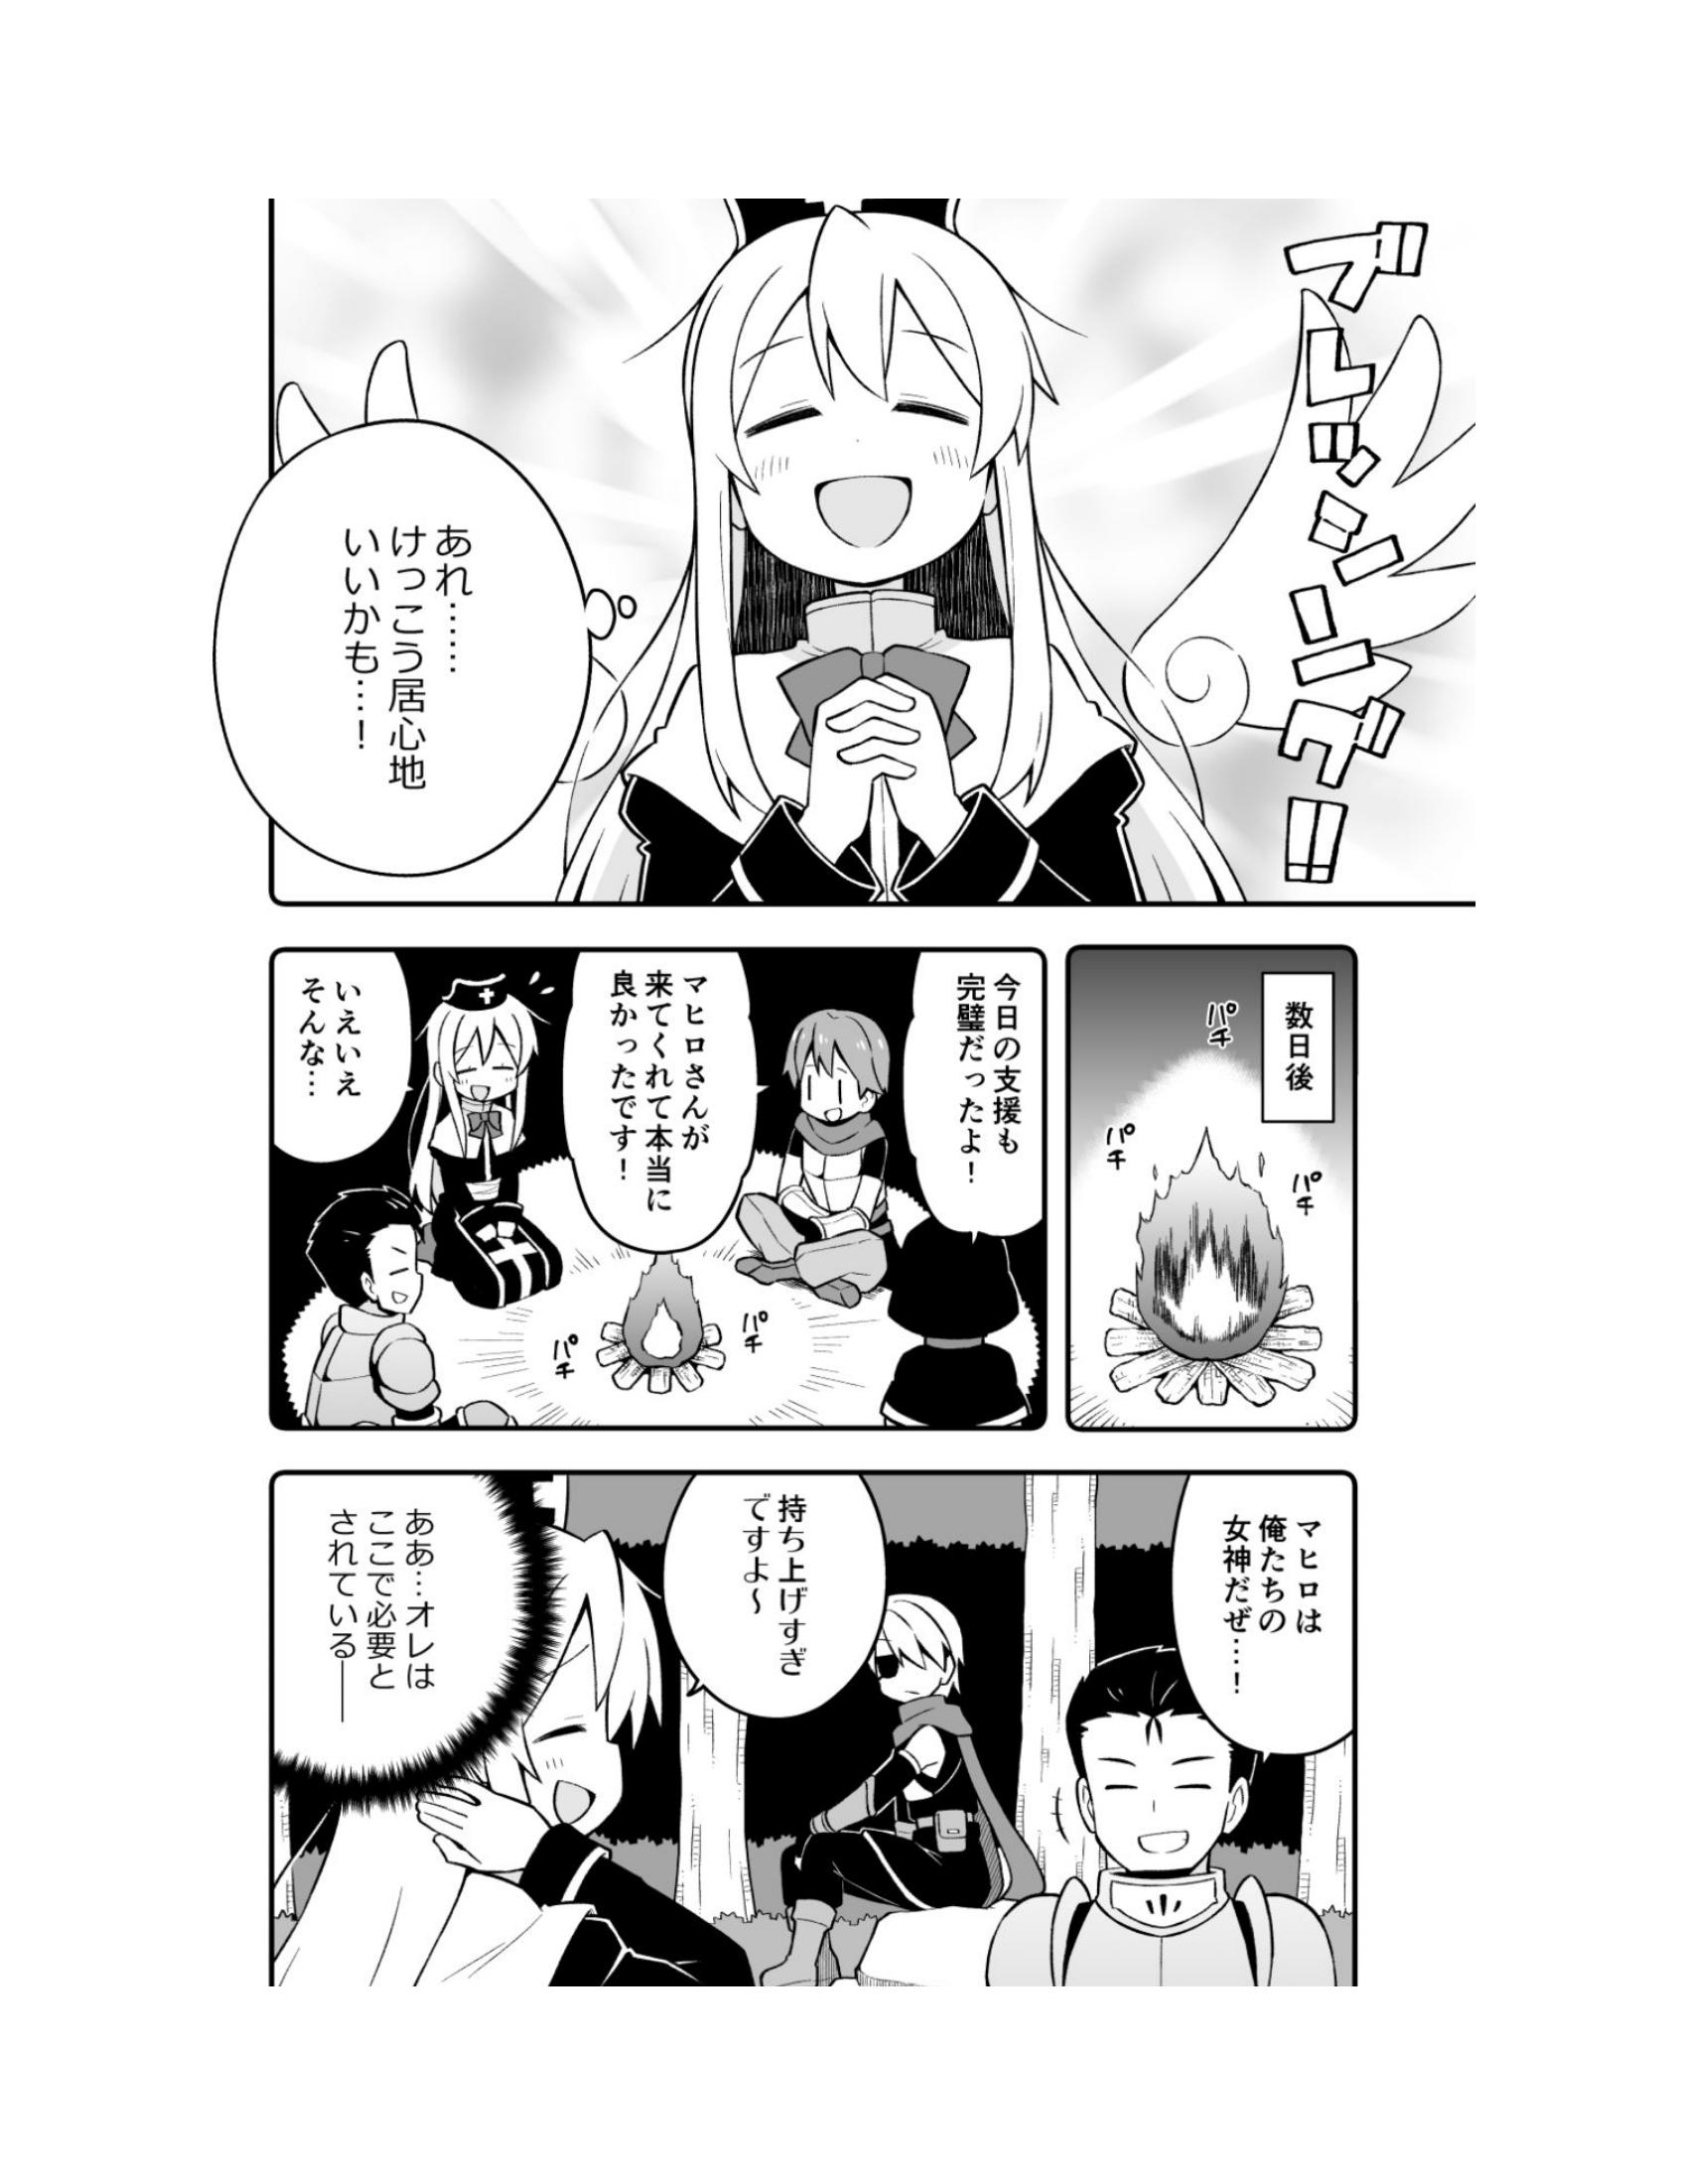a: (207, 408, 628, 876), (264, 1477, 574, 1824), (537, 932, 785, 1266), (638, 1461, 934, 1720), (874, 911, 1085, 1232), (1163, 1464, 1376, 1760), (245, 932, 447, 1184), (1238, 966, 1355, 1172)
